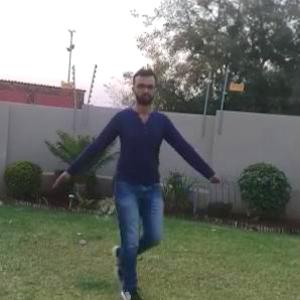land: (58, 68, 218, 287)
